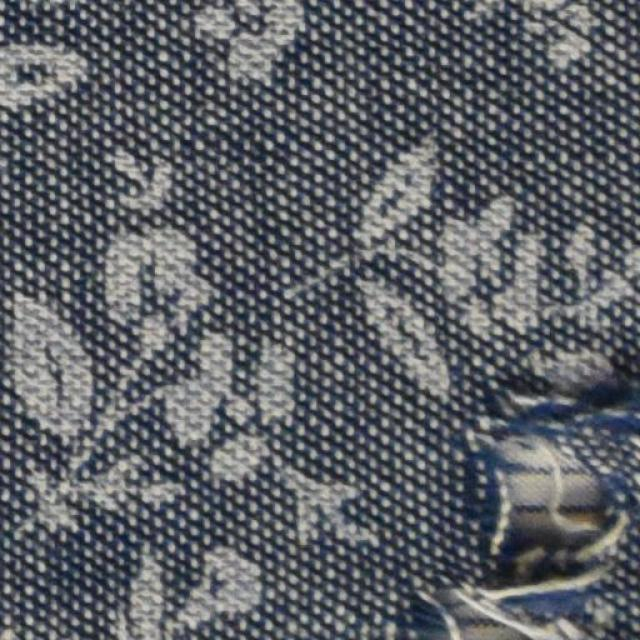Hole: (512, 448, 599, 541), (445, 597, 521, 640)
Snag: (473, 542, 614, 625)
